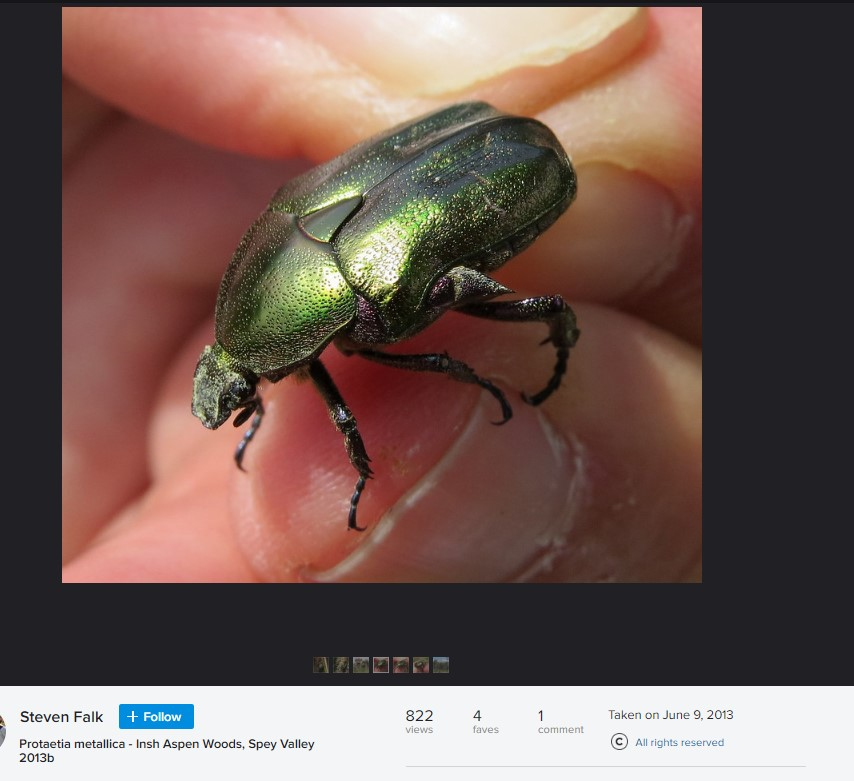Protaetia_metallica: (183, 85, 595, 548)
